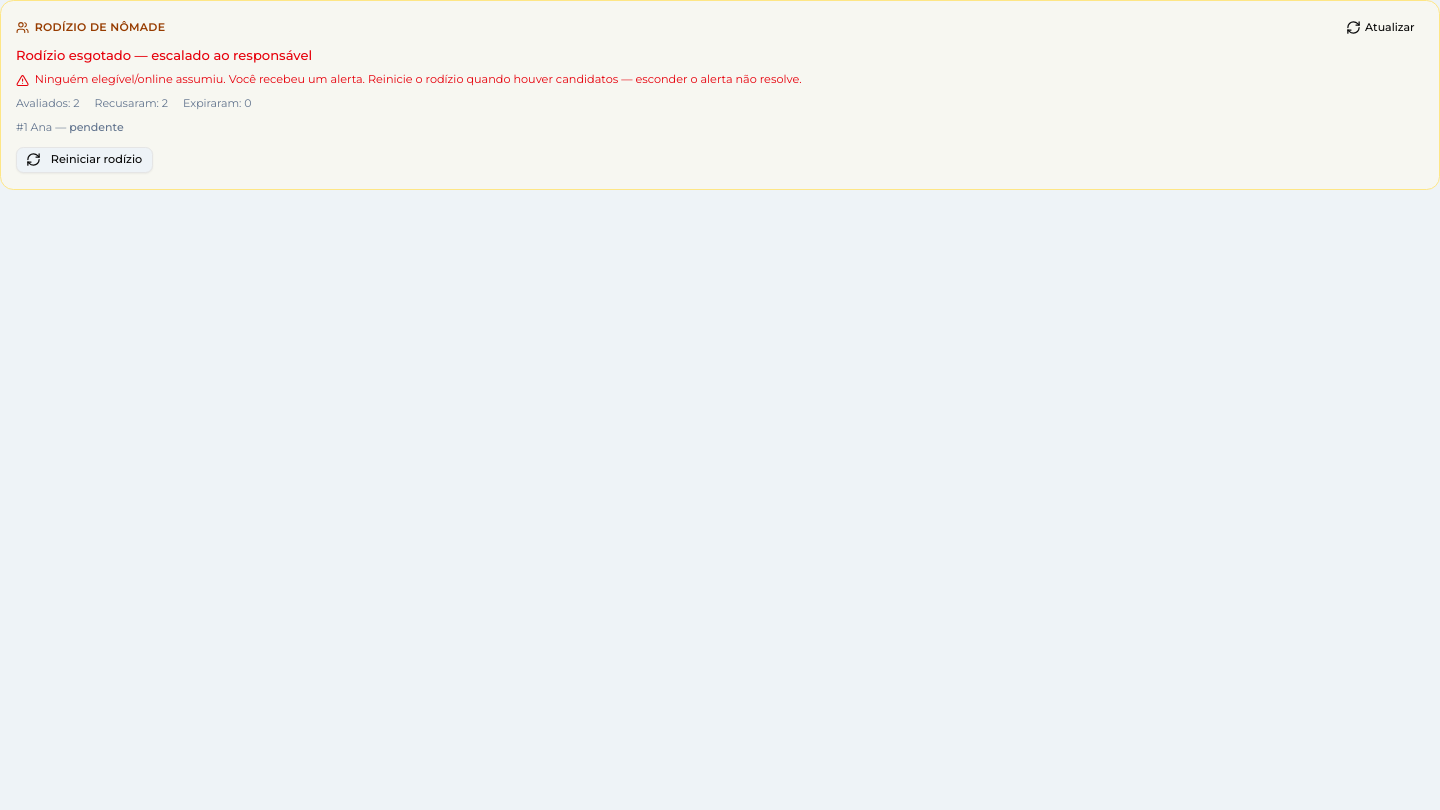
Test: 9. quando escalado, explica que esconder o alerta não resolve e oferece Reiniciar (com confirmação)
Later steps or results of the test are not shown.
Expected: the text "esconder o alerta não resolve" is shown, [35,72,802,86]
Click the button "Reiniciar rodízio" at {"x": 84, "y": 160}, box [16,146,153,173]
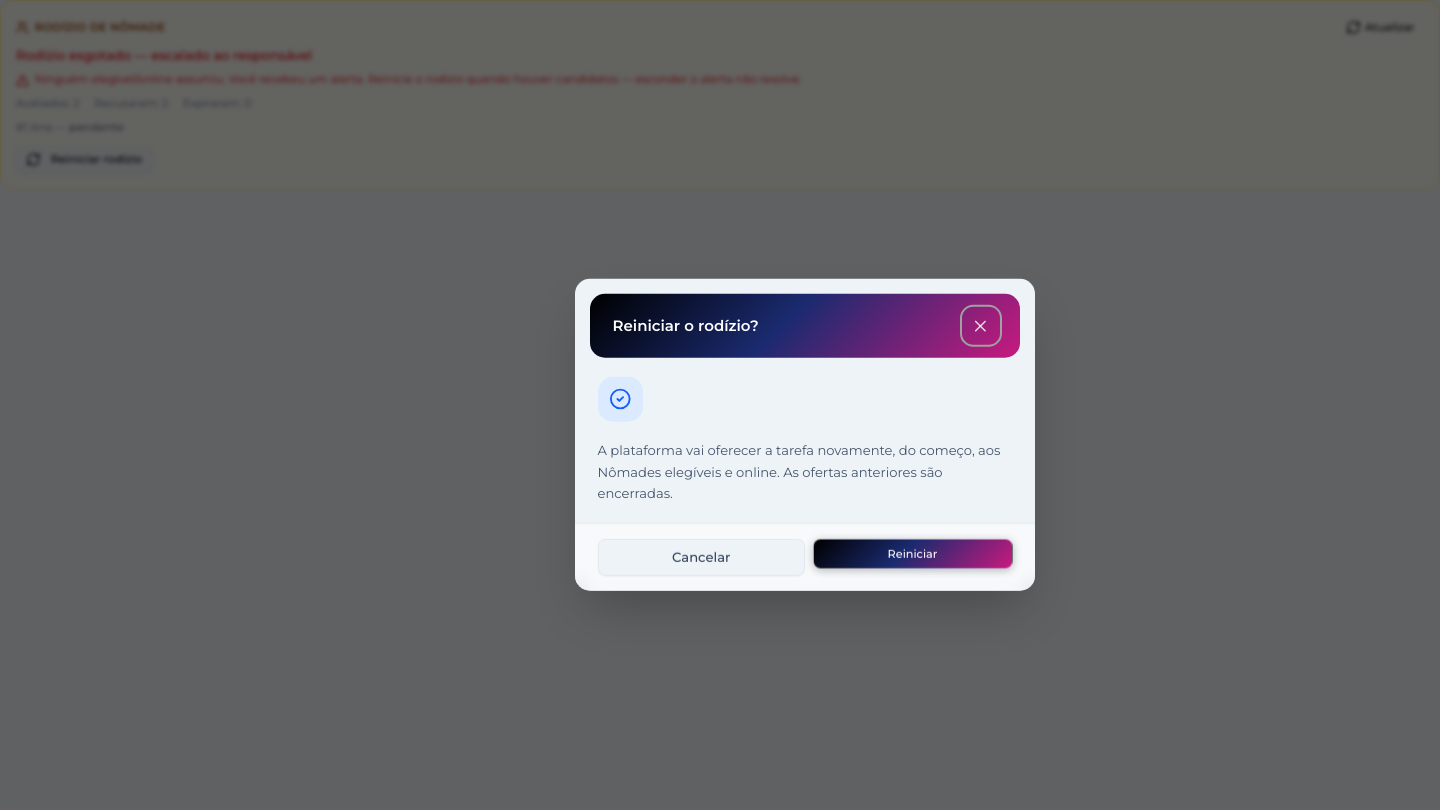
Expected: the text "Reiniciar o rodízio?" is shown, [612,315,759,334]
